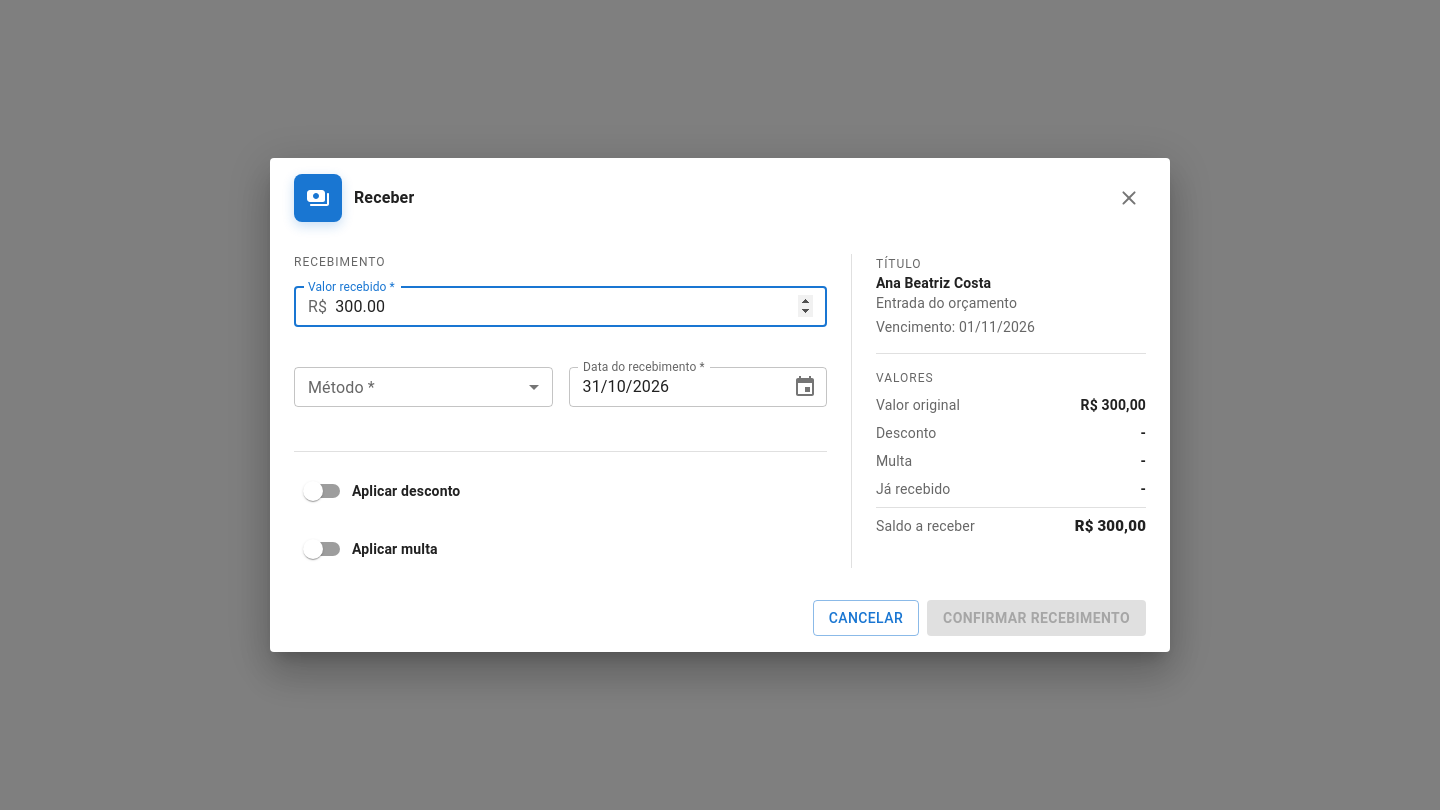
Scenario: ReceberTituloDialog (receber + desconto na mesma tela) › ligar o desconto sem informar o valor bloqueia a confirmação
Click the dropdown named "método": [423, 387] box x1=294 y1=367 x2=552 y2=407
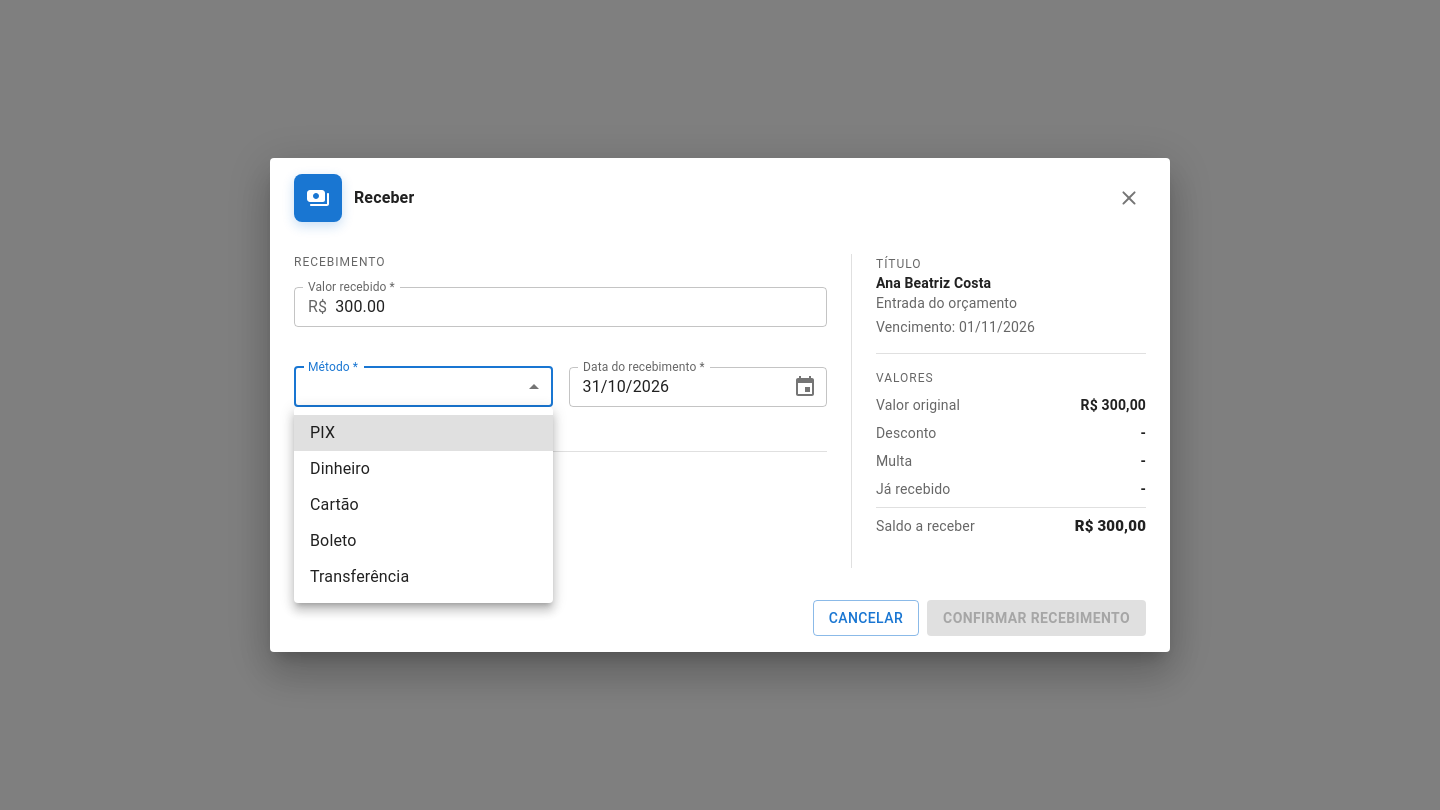
Click the option "PIX": [424, 433] box x1=294 y1=415 x2=553 y2=451
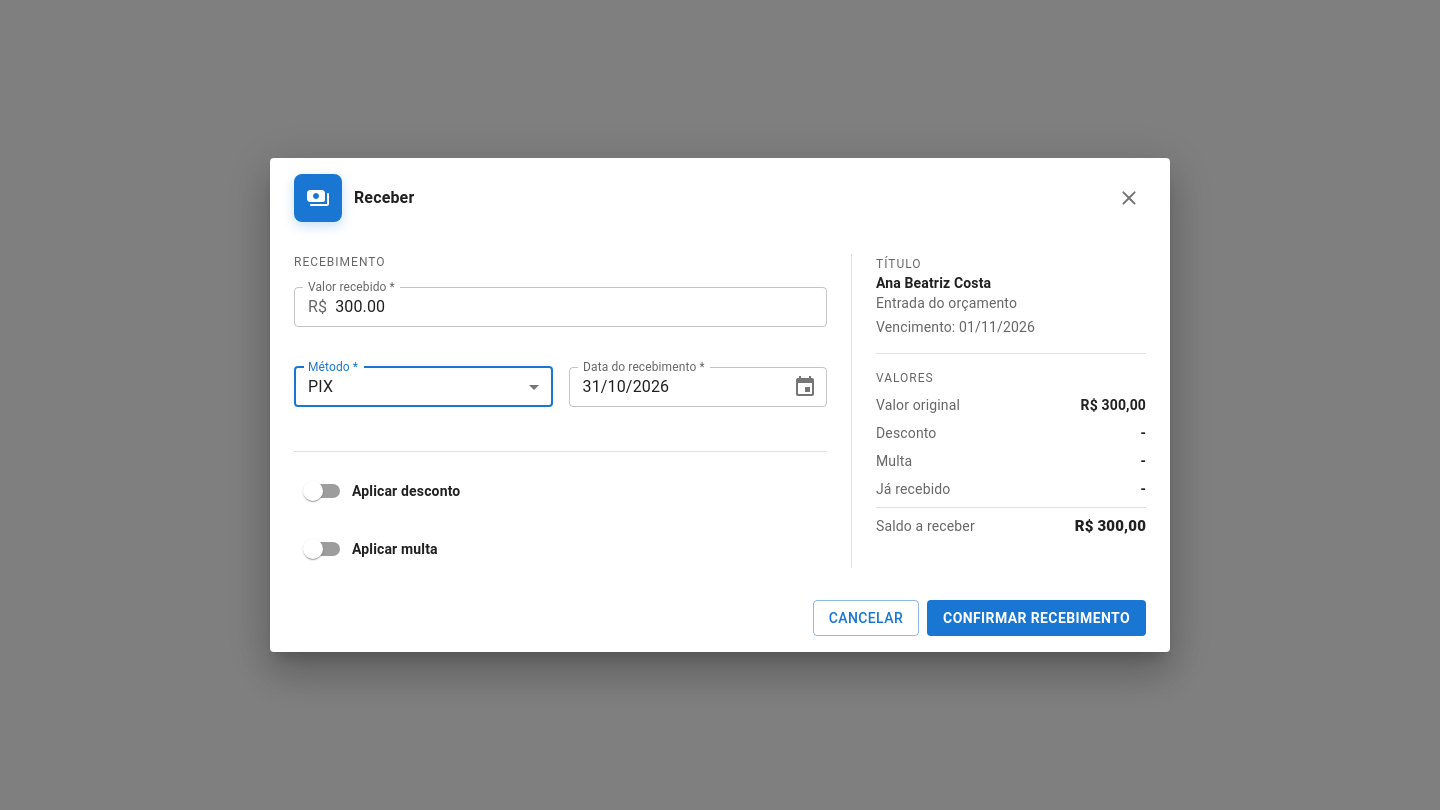
Click the switch labelled "Aplicar desconto": [382, 490] box x1=303 y1=480 x2=460 y2=500
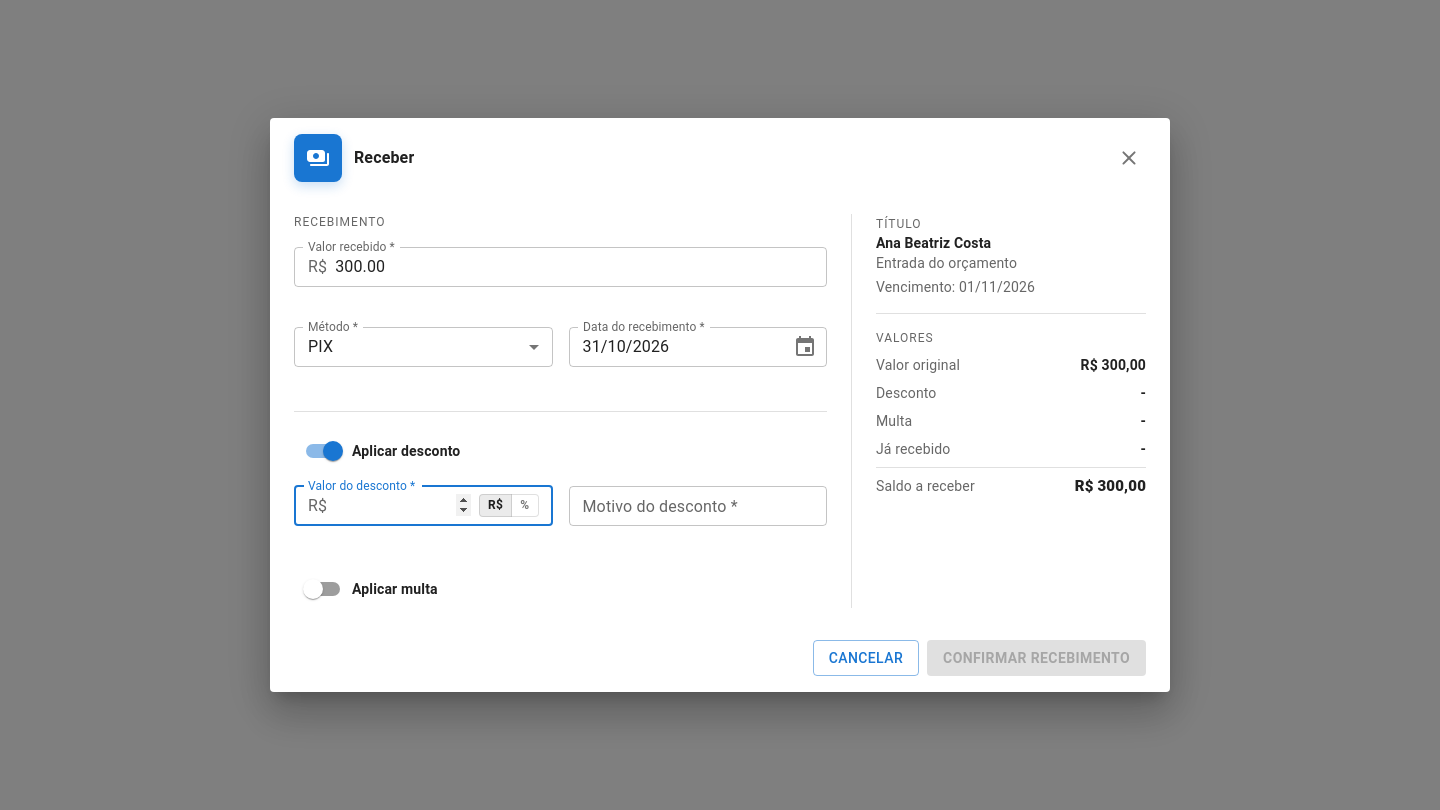
Expected: the button "Confirmar recebimento" is disabled, x1=927 y1=640 x2=1146 y2=676
